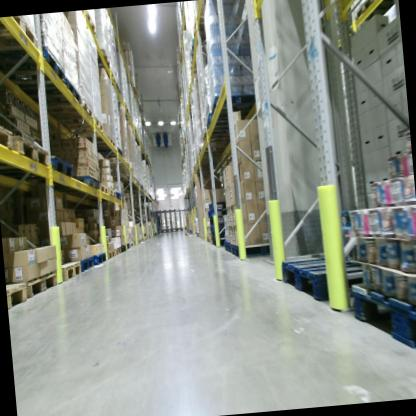pallet: (277, 243, 385, 309), (350, 275, 416, 363), (0, 48, 66, 94), (19, 73, 83, 110), (0, 131, 51, 173), (0, 16, 41, 56), (210, 89, 260, 121), (204, 107, 261, 134), (39, 99, 95, 125), (20, 268, 58, 300), (50, 152, 79, 184), (61, 113, 104, 134), (230, 241, 272, 262), (354, 0, 395, 21), (80, 10, 102, 39), (7, 282, 30, 308), (57, 261, 84, 283), (0, 117, 17, 151), (84, 135, 117, 152), (73, 174, 101, 191), (193, 14, 210, 37), (77, 254, 96, 273), (94, 49, 110, 68), (208, 201, 230, 211), (209, 214, 227, 226), (208, 207, 226, 218), (95, 251, 108, 265), (210, 224, 226, 234), (100, 180, 109, 196), (106, 185, 116, 199), (223, 242, 233, 255), (108, 66, 115, 83), (106, 249, 116, 260), (115, 189, 122, 201), (114, 246, 122, 256), (119, 245, 126, 255), (128, 241, 134, 250), (131, 240, 137, 249), (207, 231, 213, 239), (125, 242, 131, 249), (207, 236, 213, 243), (206, 226, 212, 231)
